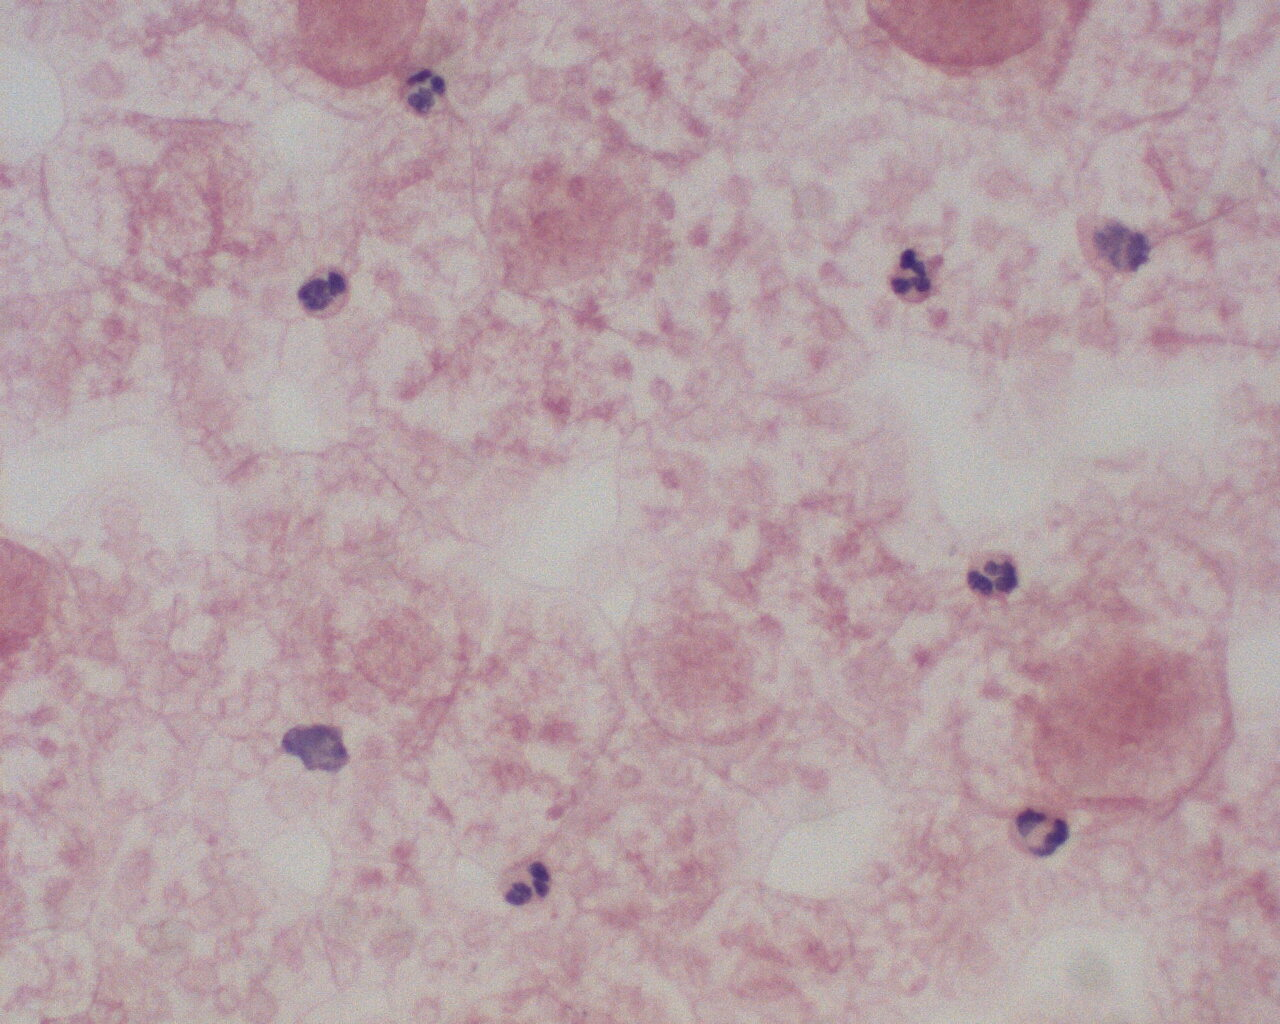neutro: (883, 246, 942, 309), (963, 548, 1023, 606), (499, 854, 561, 908)
